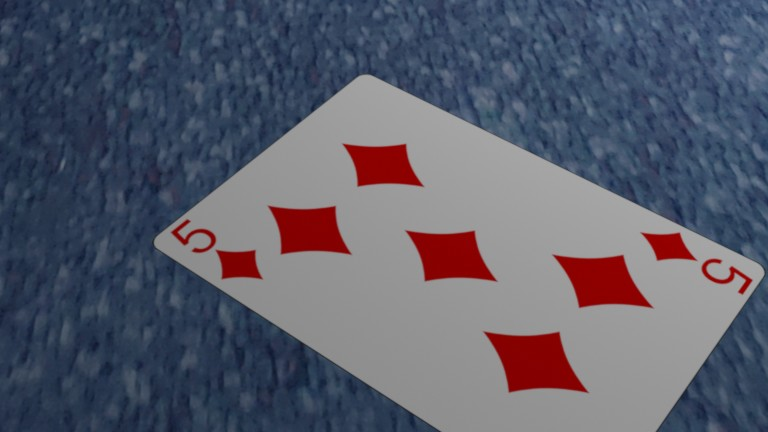5_of_diamonds: (622, 215, 760, 307), (157, 209, 287, 300)
